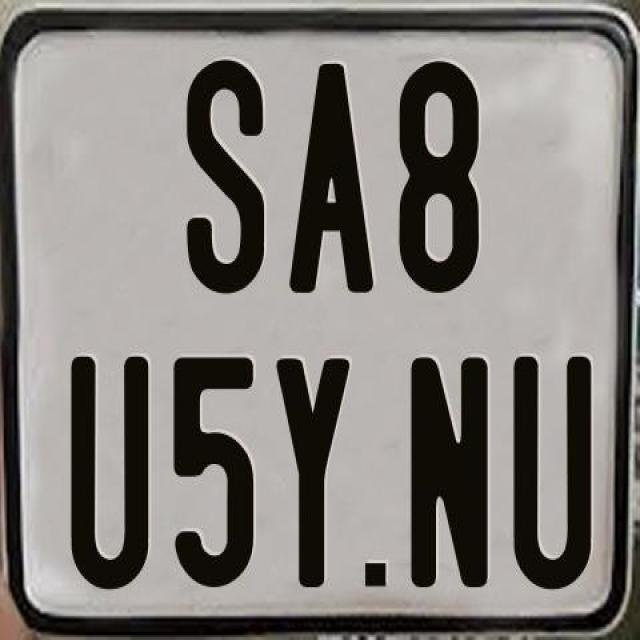5: (171, 352, 256, 584)
8: (398, 61, 486, 296)
A: (286, 59, 376, 298)
N: (406, 352, 489, 586)
S: (182, 56, 268, 291)
U: (68, 352, 152, 595), (513, 352, 595, 584)
Y: (276, 353, 354, 584)
